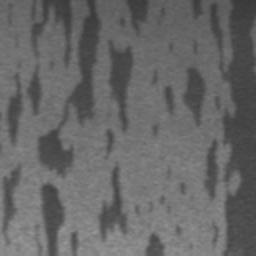Red iron sheet: (31, 0, 148, 256), (164, 0, 256, 256), (6, 64, 42, 145), (3, 165, 20, 244), (145, 233, 164, 256), (175, 225, 182, 234), (179, 182, 184, 193)
